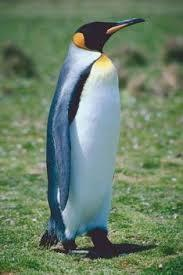king: (42, 4, 146, 265)
